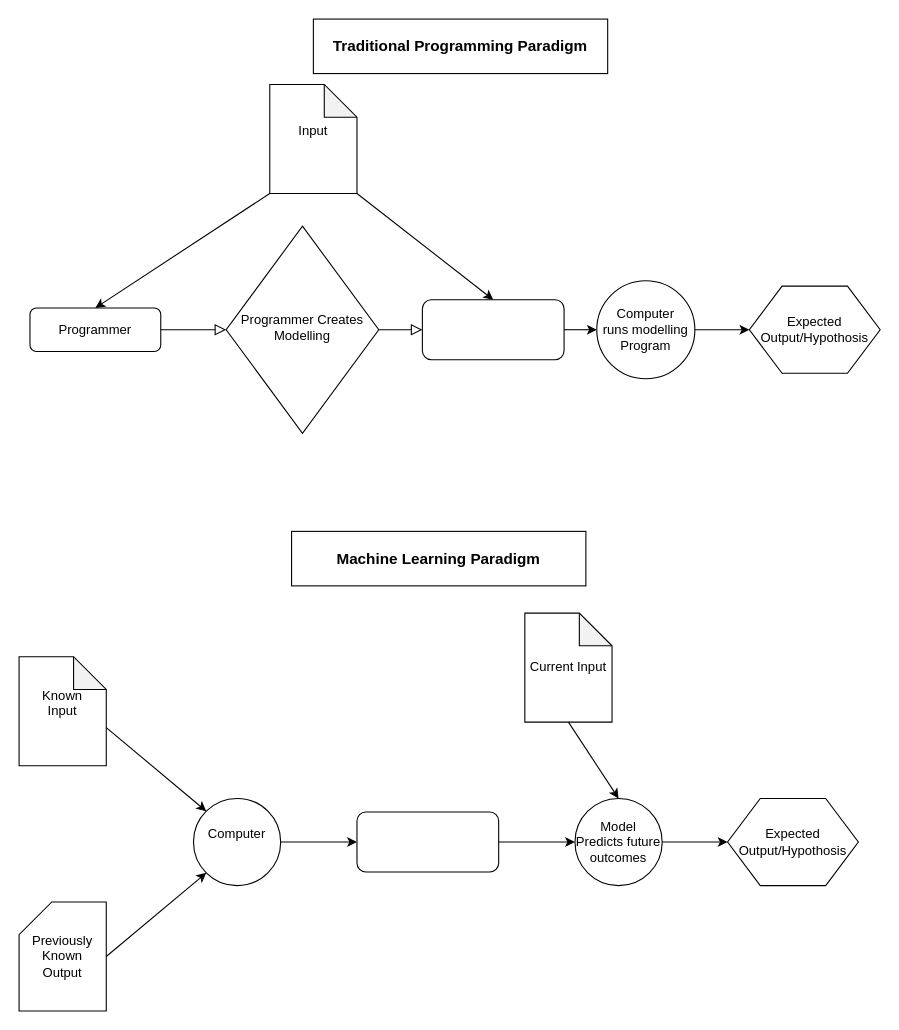
The diagram is 899 pixels wide and 1030 high, and some of its shapes have lost their labels. The box of each missing label's shape, as (x1, y1, x2, y2) in pixels:
Programmer Creates a Program to run the modelling: (421, 299, 564, 360)
Programmer Generates Modelling: (356, 811, 499, 872)
